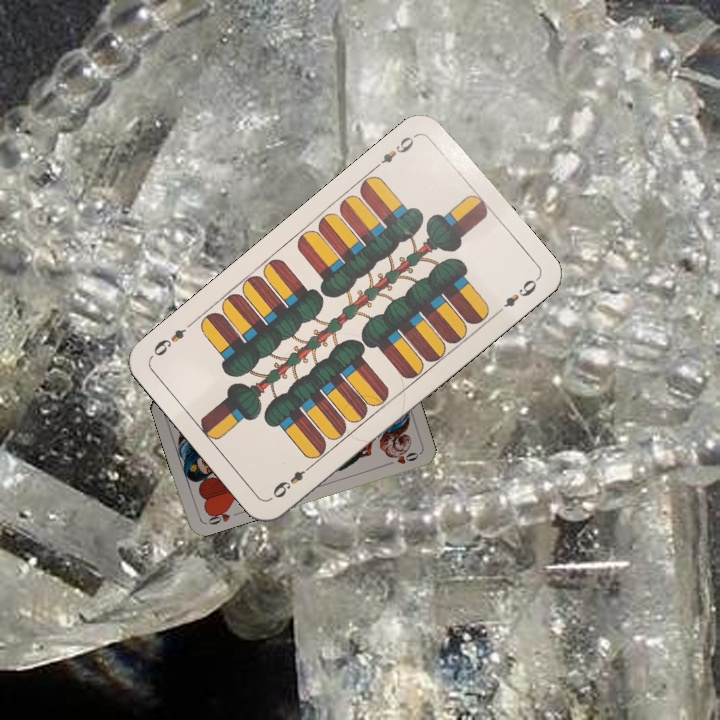E9: (370, 130, 420, 172), (268, 459, 316, 501)
HO: (202, 503, 233, 527)
